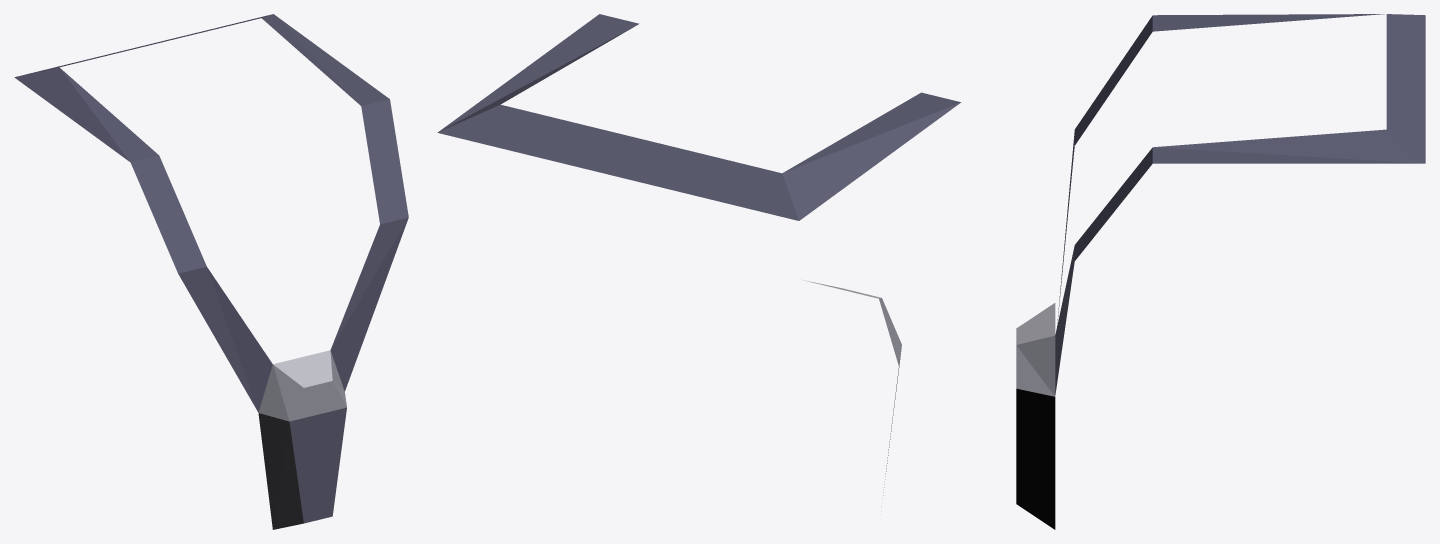
The model's file is player_amulet_of_fury.glb.
3 views of the same model, side by side, from view 1: azimuth 30°, elevation 25°; view 2: azimuth 150°, elevation 25°; view 3: azimuth 270°, elevation 25° (orthographic). The views are drawn at different scales.
Size of the model in its own units: 18.01 by 24.99 by 20.99.
1 material, 1 textured.
